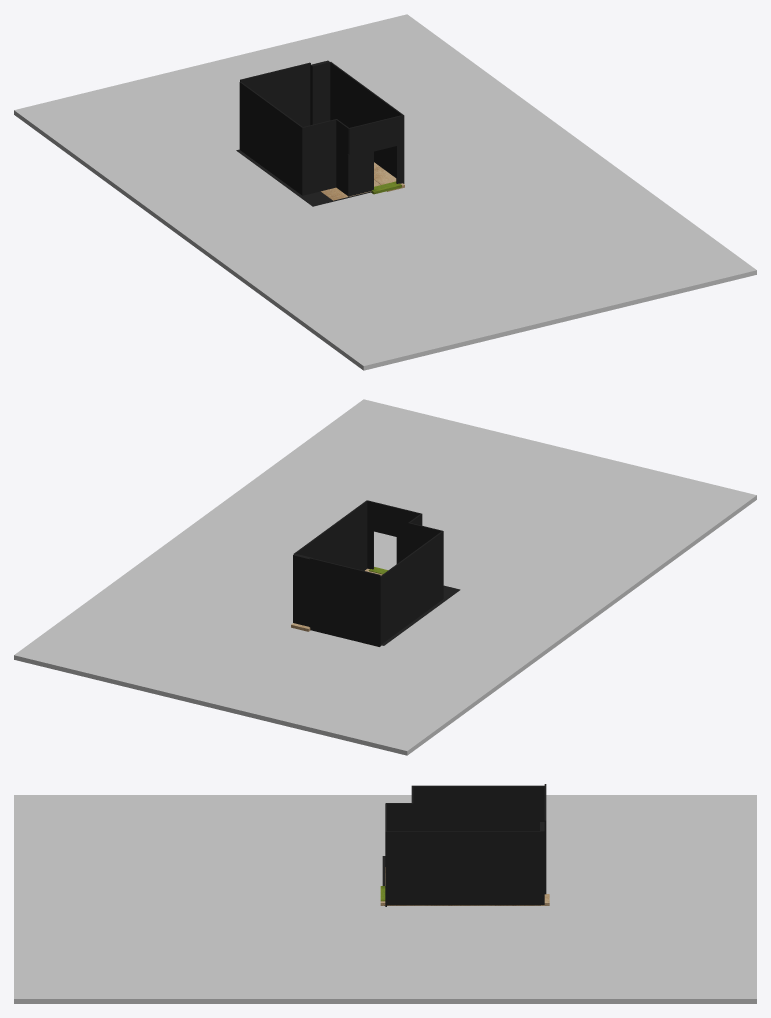
File: espace noir.fbx
3 renders of one model, top to bottom at view 1: azimuth 30°, elevation 25°; view 2: azimuth 150°, elevation 25°; view 3: azimuth 270°, elevation 25°, orthographic. The views are drawn at different scales.
Parts seen in each view (by area): view 1: Cube_14, Cube, Cube_1, Cube_3, Cube_4, Cube_5, Cube_2, Cube_7, Cube_6, Plan; view 2: Cube_14, Cube_3, Cube, Cube_1, Cube_2, Cube_5, Cube_4; view 3: Cube_14, Cube_1, Cube, Cube_6.
Part boxes in pixels (box(x1,y1,x2,y2)): Cube_14: box(14, 14, 756, 370); Cube: box(239, 82, 302, 195); Cube_1: box(330, 62, 404, 177); Cube_3: box(240, 62, 310, 126); Cube_4: box(302, 119, 336, 195); Cube_5: box(349, 115, 402, 157); Cube_2: box(310, 60, 330, 125); Cube_7: box(347, 151, 373, 196); Cube_6: box(336, 119, 349, 195); Plan: box(236, 149, 372, 206); Cube_14: box(14, 399, 756, 755); Cube_3: box(309, 558, 380, 646); Cube: box(380, 531, 443, 645); Cube_1: box(293, 500, 367, 570); Cube_2: box(293, 553, 312, 626); Cube_5: box(367, 500, 420, 536); Cube_4: box(408, 522, 442, 554); Cube_14: box(14, 795, 756, 1003); Cube_1: box(385, 831, 540, 905); Cube: box(412, 785, 544, 831); Cube_6: box(385, 803, 412, 831).
Size of the model in its own units: 1509 by 455 by 2324.
Materials: 5 (3 with a texture image).
